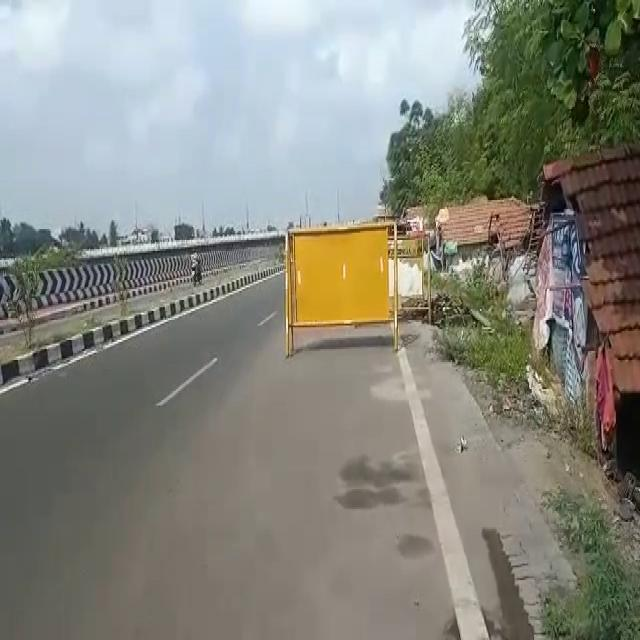fallen_object: (269, 203, 424, 368)
